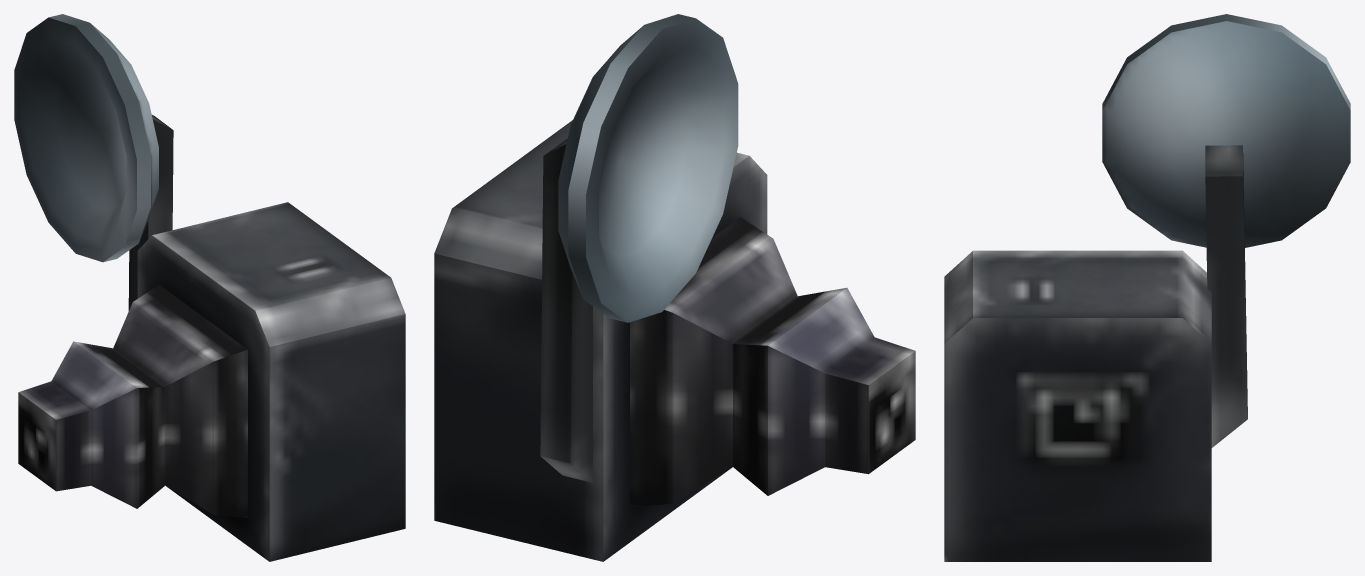
The model's file is Old_camera.FBX.
3 renders of one model, left to right at view 1: azimuth 30°, elevation 25°; view 2: azimuth 150°, elevation 25°; view 3: azimuth 270°, elevation 25°, orthographic. The views are drawn at different scales.
Parts seen in each view (by area): view 1: Box01; view 2: Box01; view 3: Box01.
Boxes of the visible parts, x1,y1,x2,y2 form: Box01: (14, 14, 405, 561); Box01: (434, 14, 915, 561); Box01: (944, 14, 1350, 561).
Bounding box in the file's own units: 234 × 269 × 331.
